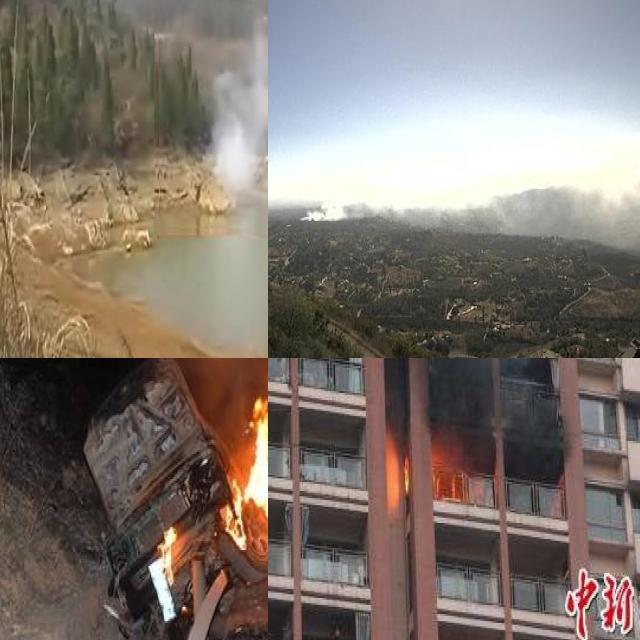fire: (383, 416, 472, 514), (232, 376, 268, 536), (157, 524, 184, 562)
smoke: (297, 163, 640, 254), (361, 358, 565, 478), (207, 19, 268, 196)
